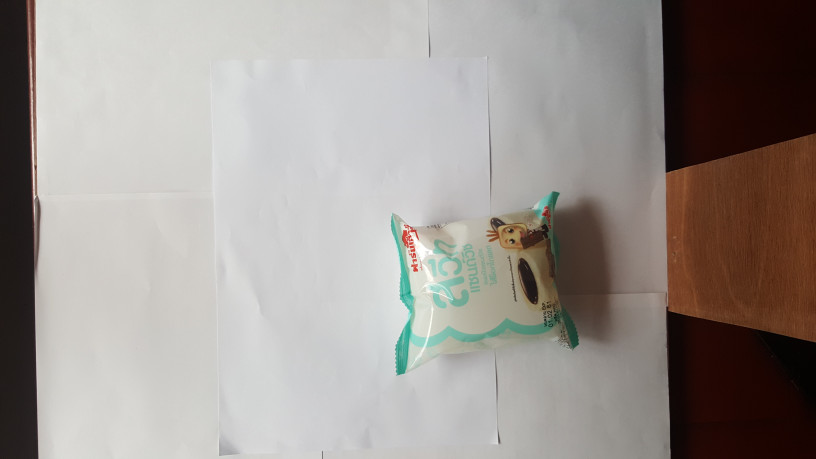farmhouse-sweetsandwich-chocolate: (388, 190, 582, 377)
